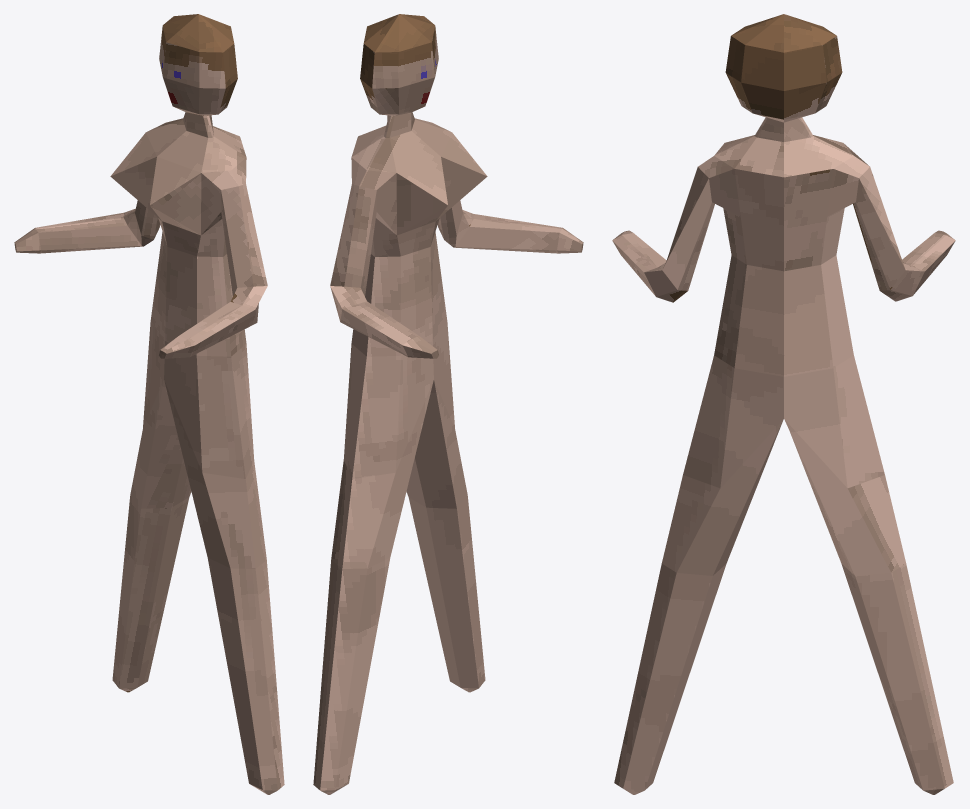
The model's file is doll.glb.
3 views of the same model, side by side, from view 1: azimuth 30°, elevation 25°; view 2: azimuth 150°, elevation 25°; view 3: azimuth 270°, elevation 25° (orthographic). The views are drawn at different scales.
Parts seen in each view (by area): view 1: Cylinder; view 2: Cylinder; view 3: Cylinder.
Boxes of the visible parts, x1,y1,x2,y2 form: Cylinder: (14, 14, 284, 794); Cylinder: (313, 14, 583, 794); Cylinder: (612, 14, 955, 794).
Size of the model in its own units: 0.7836 by 3.55 by 1.42.
1 material, 1 textured.
